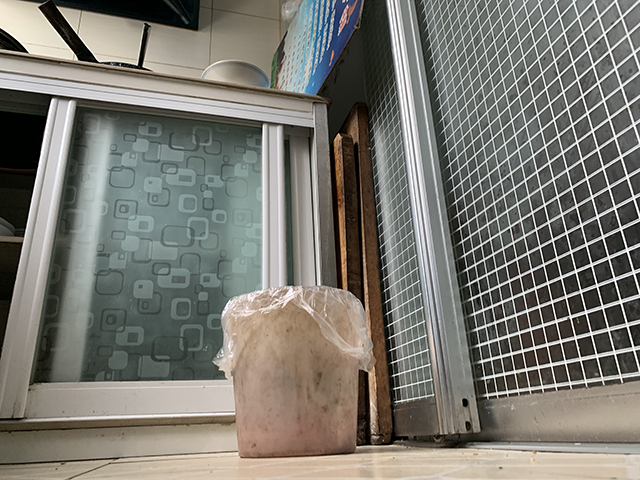cabinet: (1, 49, 348, 465)
trashcan: (211, 283, 375, 458)
